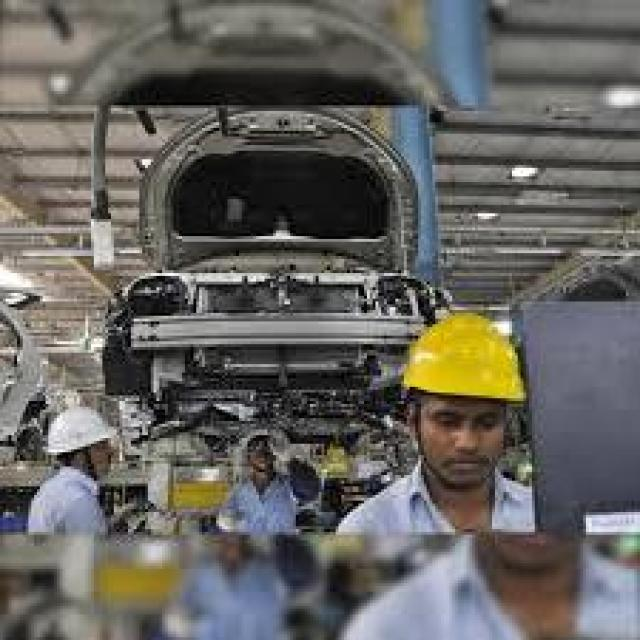Safety-Helmet: (381, 304, 541, 418), (37, 401, 122, 467)
